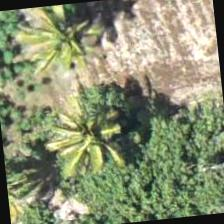Kelapa_Sawit: (48, 93, 146, 192), (30, 0, 128, 78)
